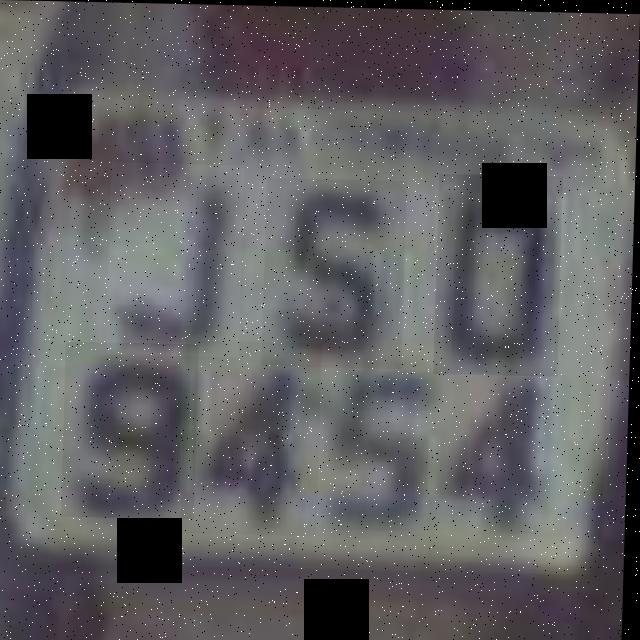4: (184, 339, 324, 535), (431, 364, 556, 559)
5: (308, 362, 457, 532)
9: (64, 341, 201, 519)
J: (108, 162, 245, 356)
O: (436, 172, 564, 374)
S: (264, 177, 408, 367)
